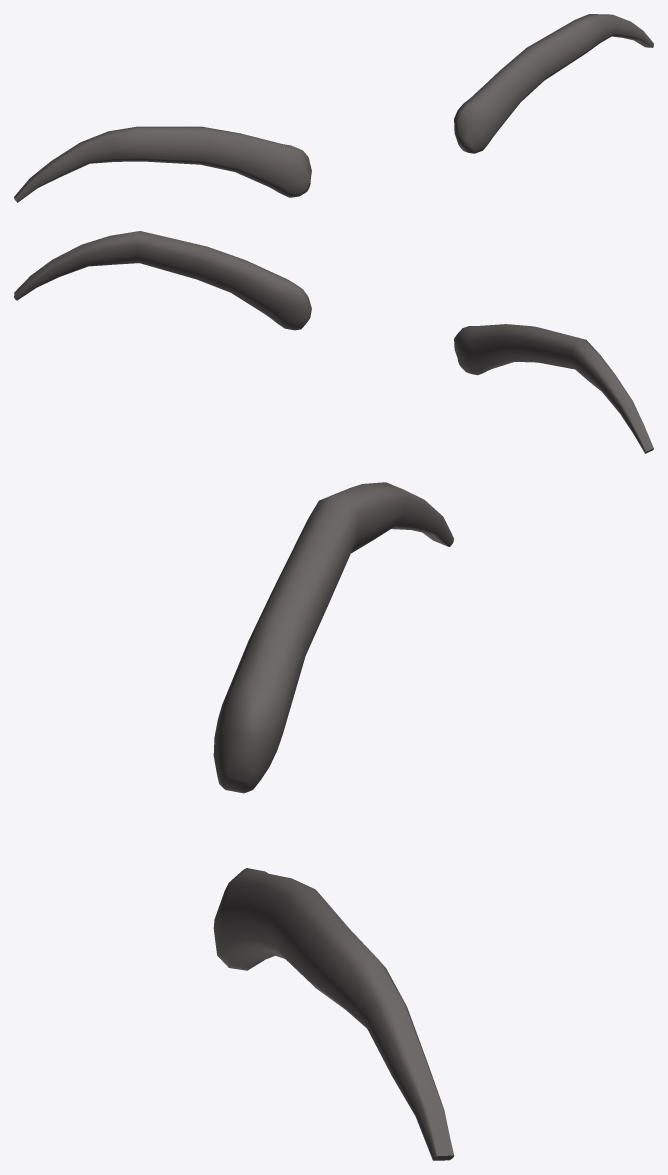
File: Eyebrows_04_04.fbx
3 views of the same model, one above another, from view 1: azimuth 30°, elevation 25°; view 2: azimuth 150°, elevation 25°; view 3: azimuth 270°, elevation 25° (orthographic). The views are drawn at different scales.
Parts seen in each view (by area): view 1: Eyebrows_04_04; view 2: Eyebrows_04_04; view 3: Eyebrows_04_04.
Boxes of the visible parts, x1,y1,x2,y2 form: Eyebrows_04_04: [14, 14, 653, 202]; Eyebrows_04_04: [14, 231, 653, 453]; Eyebrows_04_04: [213, 482, 454, 1160].
Size of the model in its own units: 19.76 by 2.45 by 3.22.
